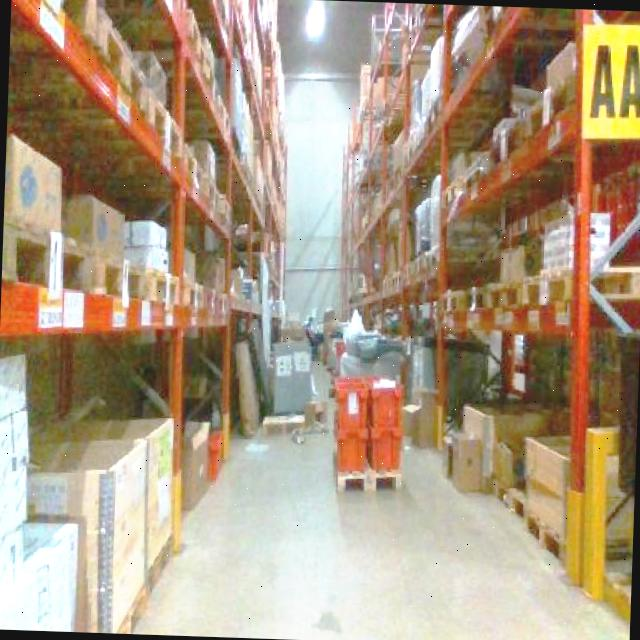ground: (0, 335, 637, 640)
pallet: (323, 1, 640, 640), (437, 394, 636, 640), (328, 371, 406, 494)
